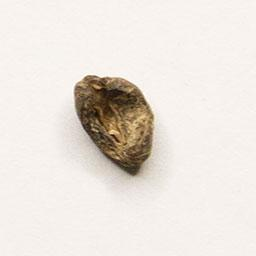defect: (71, 72, 156, 177)
